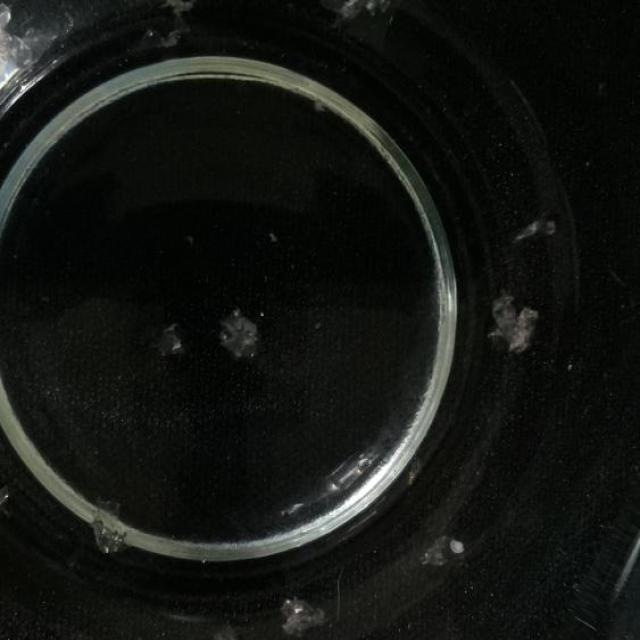fiber: (328, 0, 409, 51), (485, 287, 539, 358), (86, 493, 131, 559), (418, 531, 473, 572), (280, 596, 332, 639), (147, 3, 199, 46), (507, 210, 562, 250), (220, 310, 262, 361), (151, 321, 186, 358)
